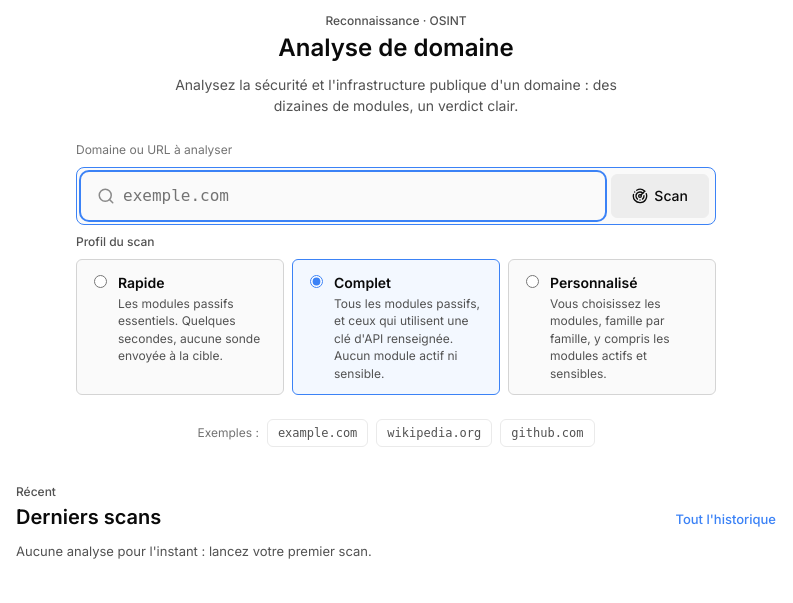
Test case: Nouveau scan › refuse un domaine trop court sans appeler l'API
Step 1. Type "ab" into the field labelled "Domaine ou URL à analyser" → (343, 196), box [83,174,603,218]
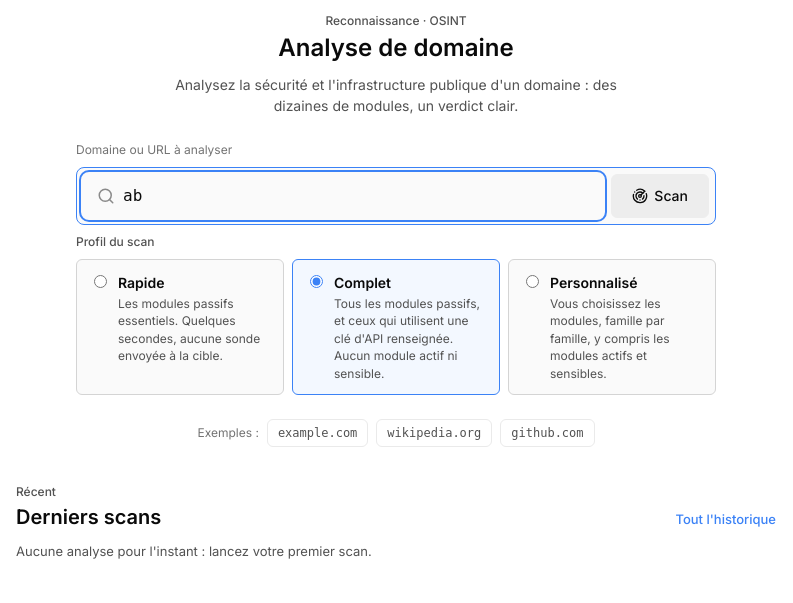
Step 2. Click the button "Scan" → (660, 196), box [611,174,709,218]
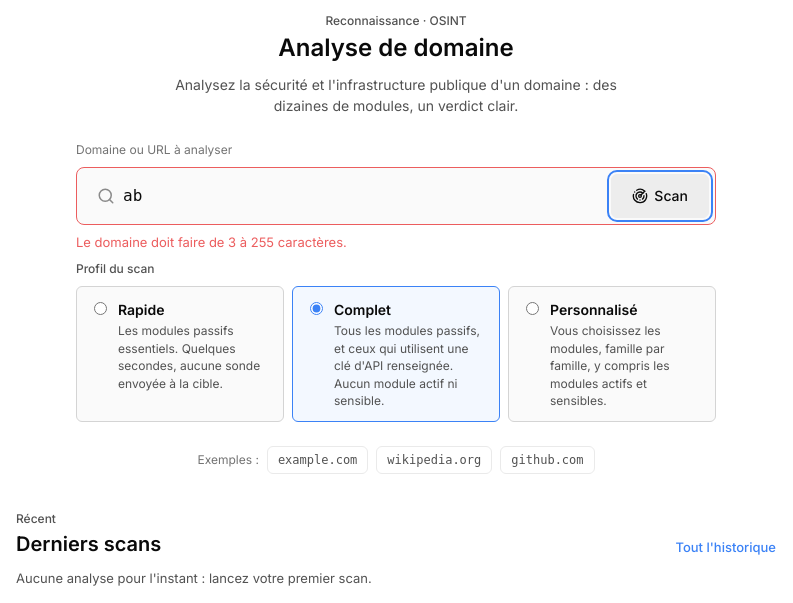
Now the message reads "Le domaine doit faire de 3 à 255 caractères.", box [76,234,347,250]
